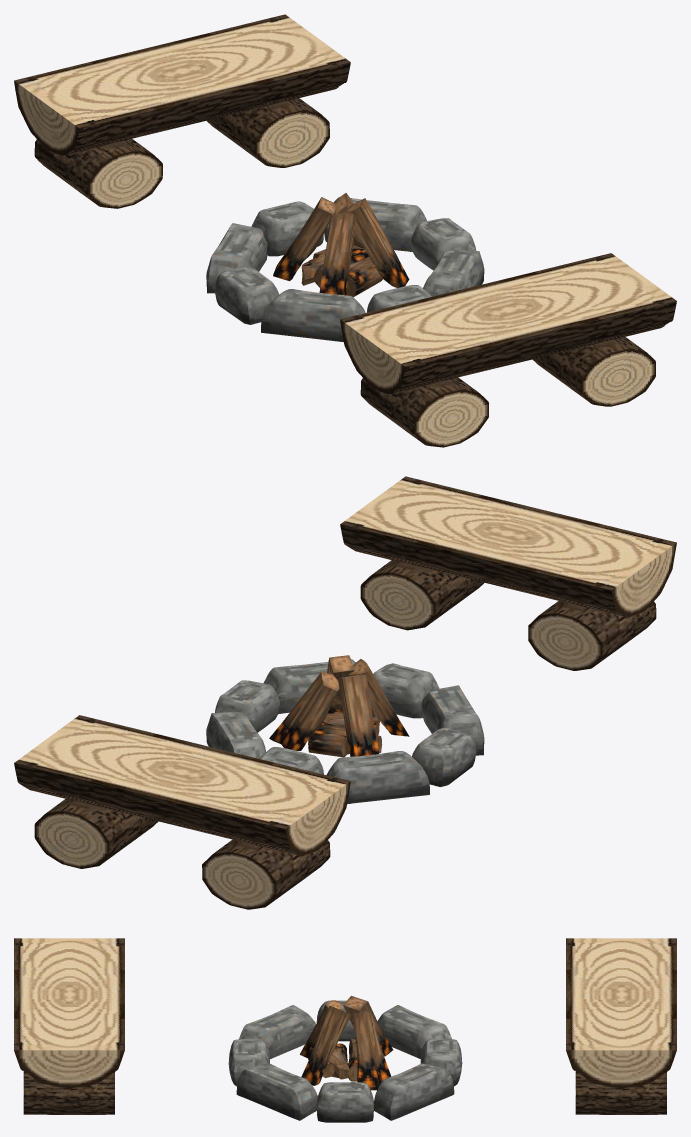
File: bonfire-DNAmtA3e.glb
3 renders of one model, top to bottom at view 1: azimuth 30°, elevation 25°; view 2: azimuth 150°, elevation 25°; view 3: azimuth 270°, elevation 25°, orthographic. The views are drawn at different scales.
Parts seen in each view (by area): view 1: prop-bench-1, prop-bench-0, prop-bonfire; view 2: prop-bench-1, prop-bench-0, prop-bonfire; view 3: prop-bonfire, prop-bench-0, prop-bench-1.
Part boxes in pixels (x1,y1,x2,y2): prop-bench-1: (340, 253, 676, 447); prop-bench-0: (14, 14, 350, 208); prop-bonfire: (206, 193, 484, 342); prop-bench-1: (340, 476, 676, 670); prop-bench-0: (14, 715, 350, 909); prop-bonfire: (206, 655, 484, 804); prop-bonfire: (228, 995, 462, 1122); prop-bench-0: (566, 938, 676, 1114); prop-bench-1: (14, 938, 124, 1114).
Size of the model in its own units: 1.25 by 0.42 by 3.12.
3 materials, 3 textured.
